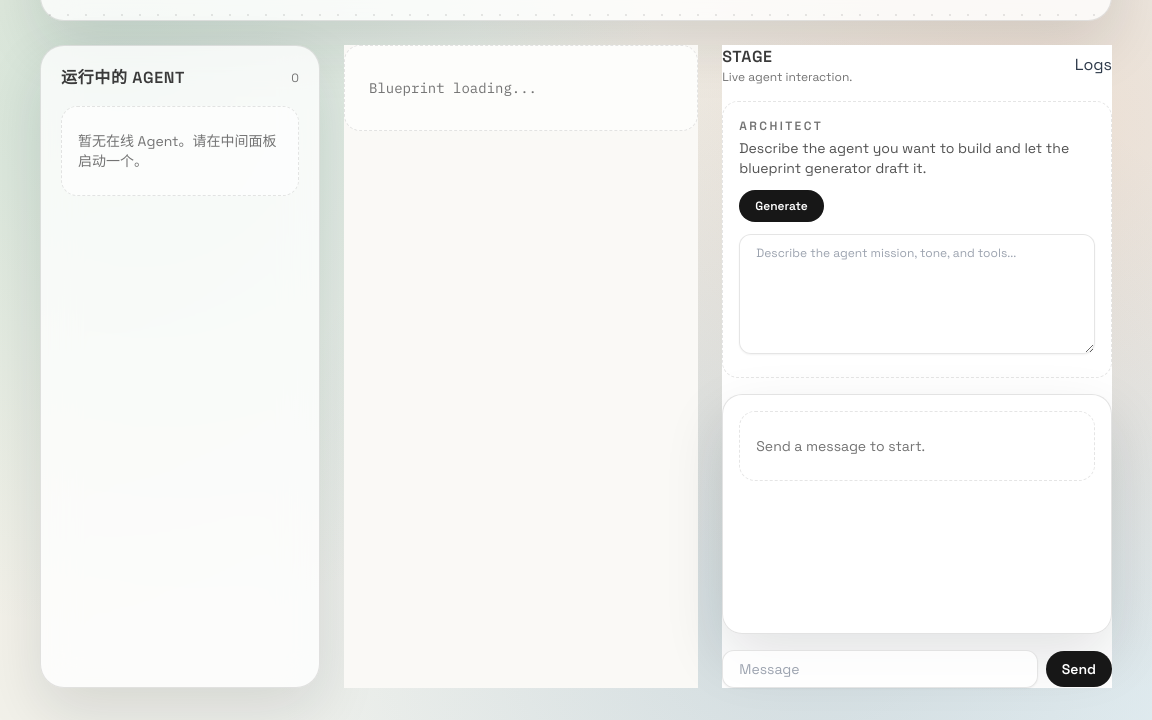
it: renders suggestion card when router suggests a tool
(page scrolled)
Type "Find the latest news" into the field with placeholder "Message" at (880, 669), box [722, 650, 1038, 688]
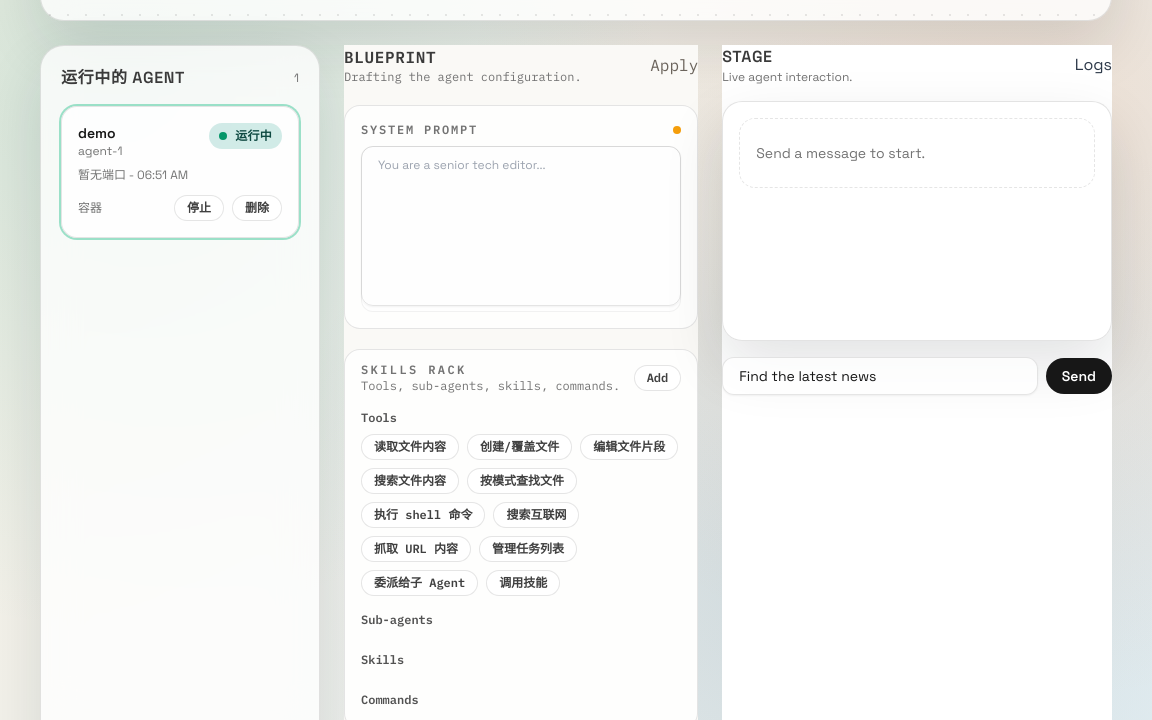
Click the button "Send" at (1079, 376), box [1046, 358, 1112, 394]
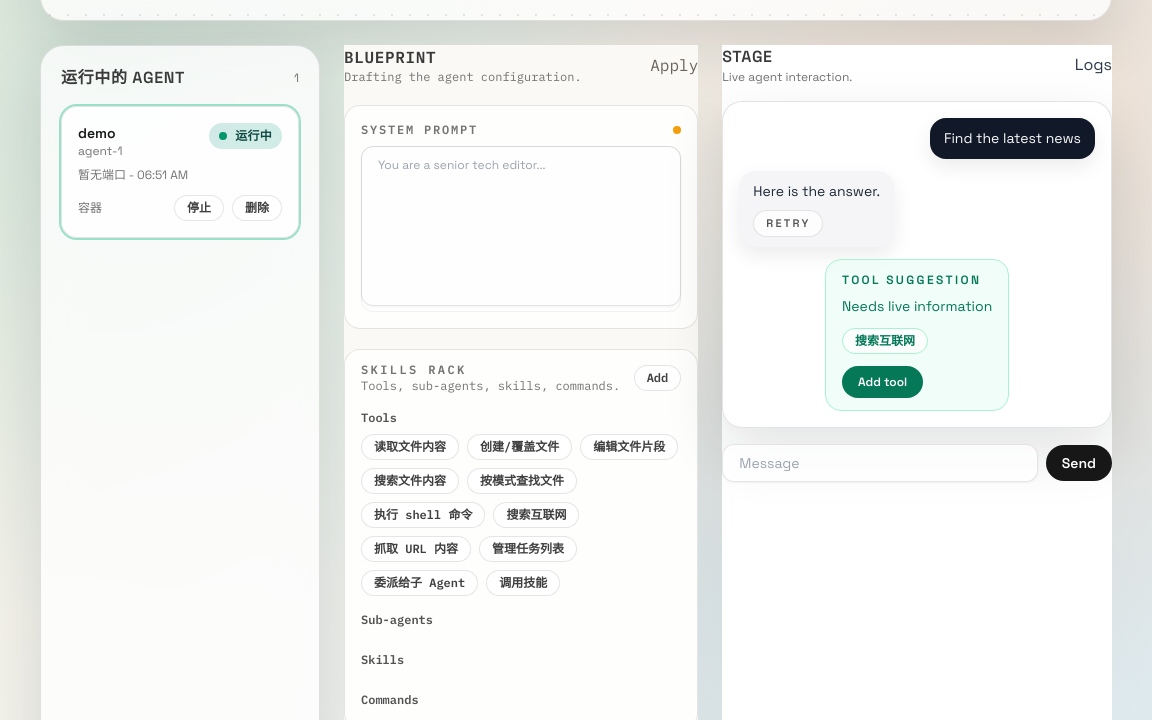
Expected: the button "Add tool" is shown, [842, 366, 923, 398]
